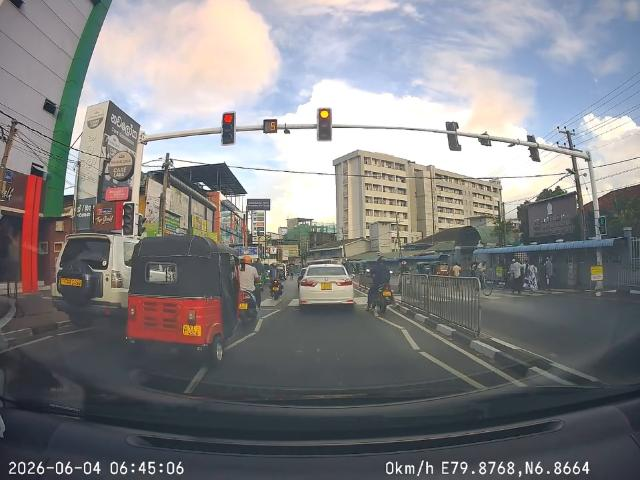red light violation: (290, 255, 362, 313)
traffic light red: (311, 100, 342, 146), (218, 108, 245, 147)
